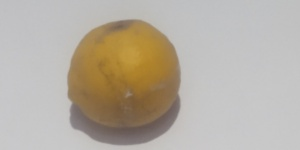BAD: (69, 19, 180, 132)
